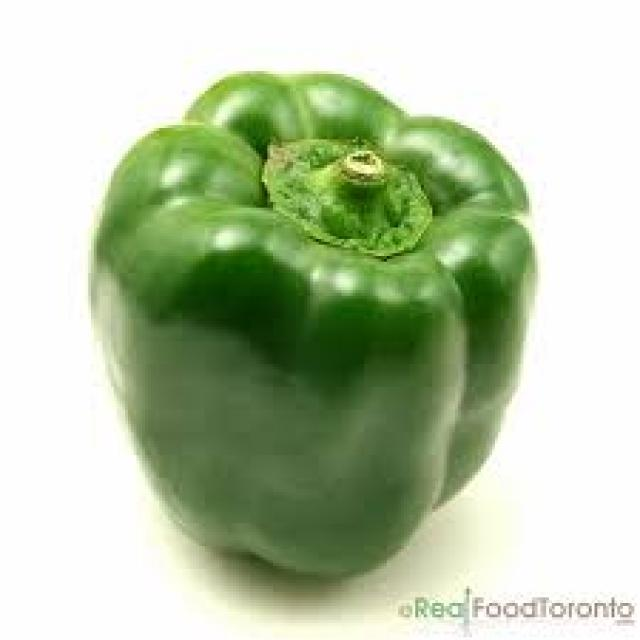organic waste: (91, 68, 529, 578)
